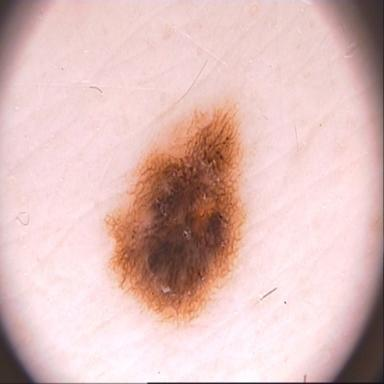nevus: (106, 106, 246, 323)
